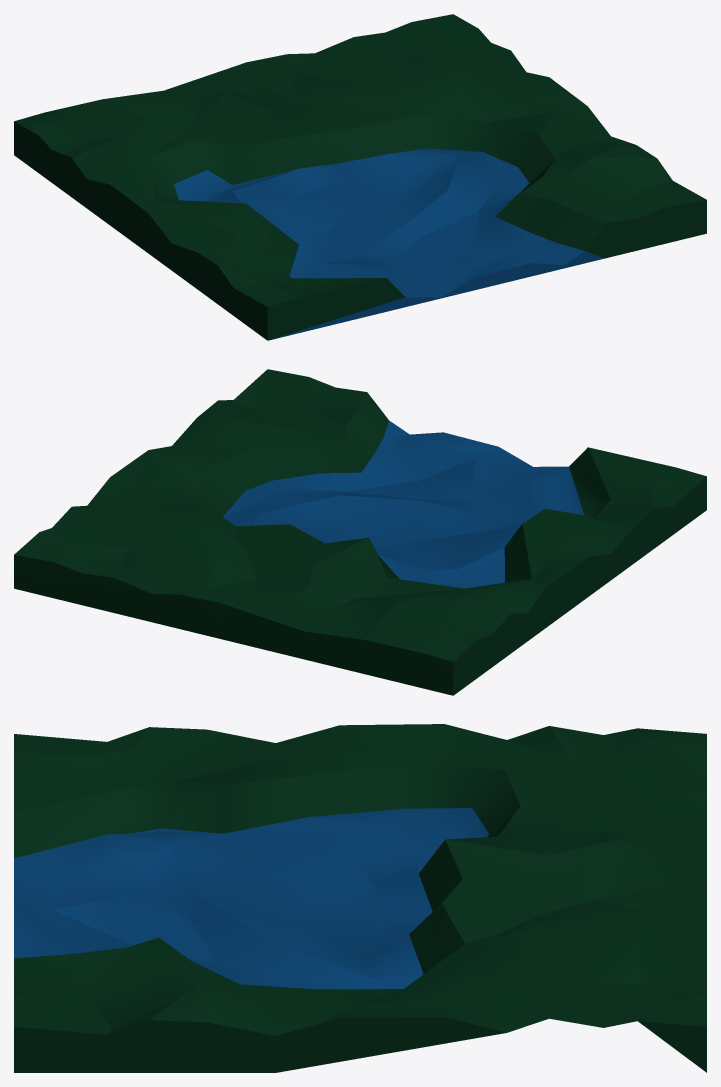
File: Water_River_Ending_U.fbx
3 renders of one model, top to bottom at view 1: azimuth 30°, elevation 25°; view 2: azimuth 150°, elevation 25°; view 3: azimuth 270°, elevation 25°, orthographic. The views are drawn at different scales.
Visible parts, largest first — view 1: Water_River_Ending_U; view 2: Water_River_Ending_U; view 3: Water_River_Ending_U.
Part boxes in pixels (box(x1,y1,x2,y2)): Water_River_Ending_U: box(14, 14, 706, 340); Water_River_Ending_U: box(14, 369, 706, 695); Water_River_Ending_U: box(14, 724, 706, 1072).
Size of the model in its own units: 147 by 14.26 by 147.
